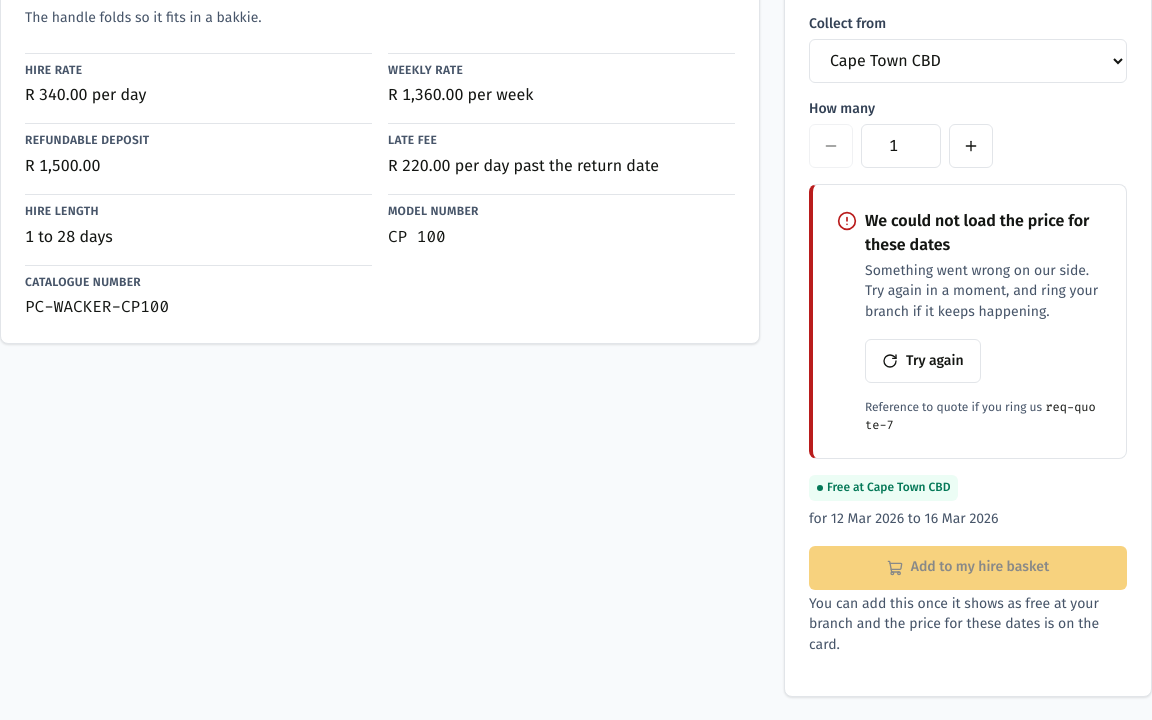
Test: when the quote fails to load › says so with the reference, shows no figure, and prices it on a retry
The width and height of the screenshot is (1152, 720).
(page scrolled)
Check: the 1st message shows "We could not load the price for these dates", box [865,211,1089,254]
Check: the text "req-quote-7" is shown, box [865,399,1096,433]
Click the button "Try again" at (923, 361), box [865,339,981,383]
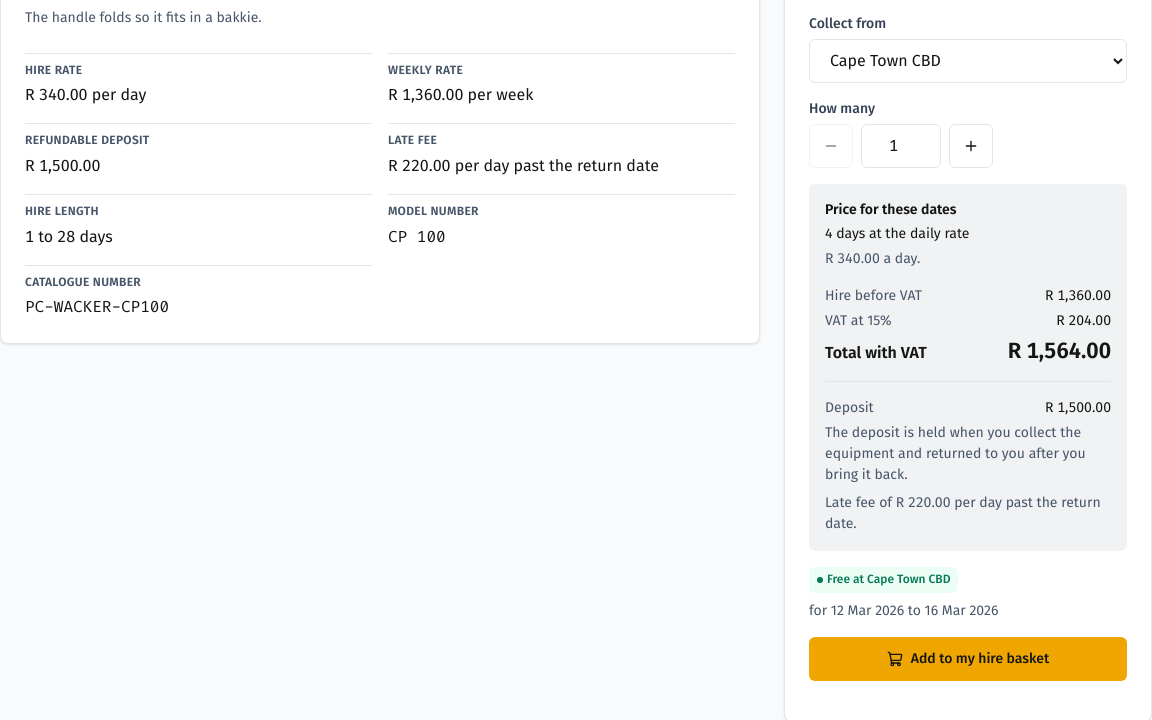
Check: the text "R 1,564.00" is shown, box [1008,336,1111,365]
